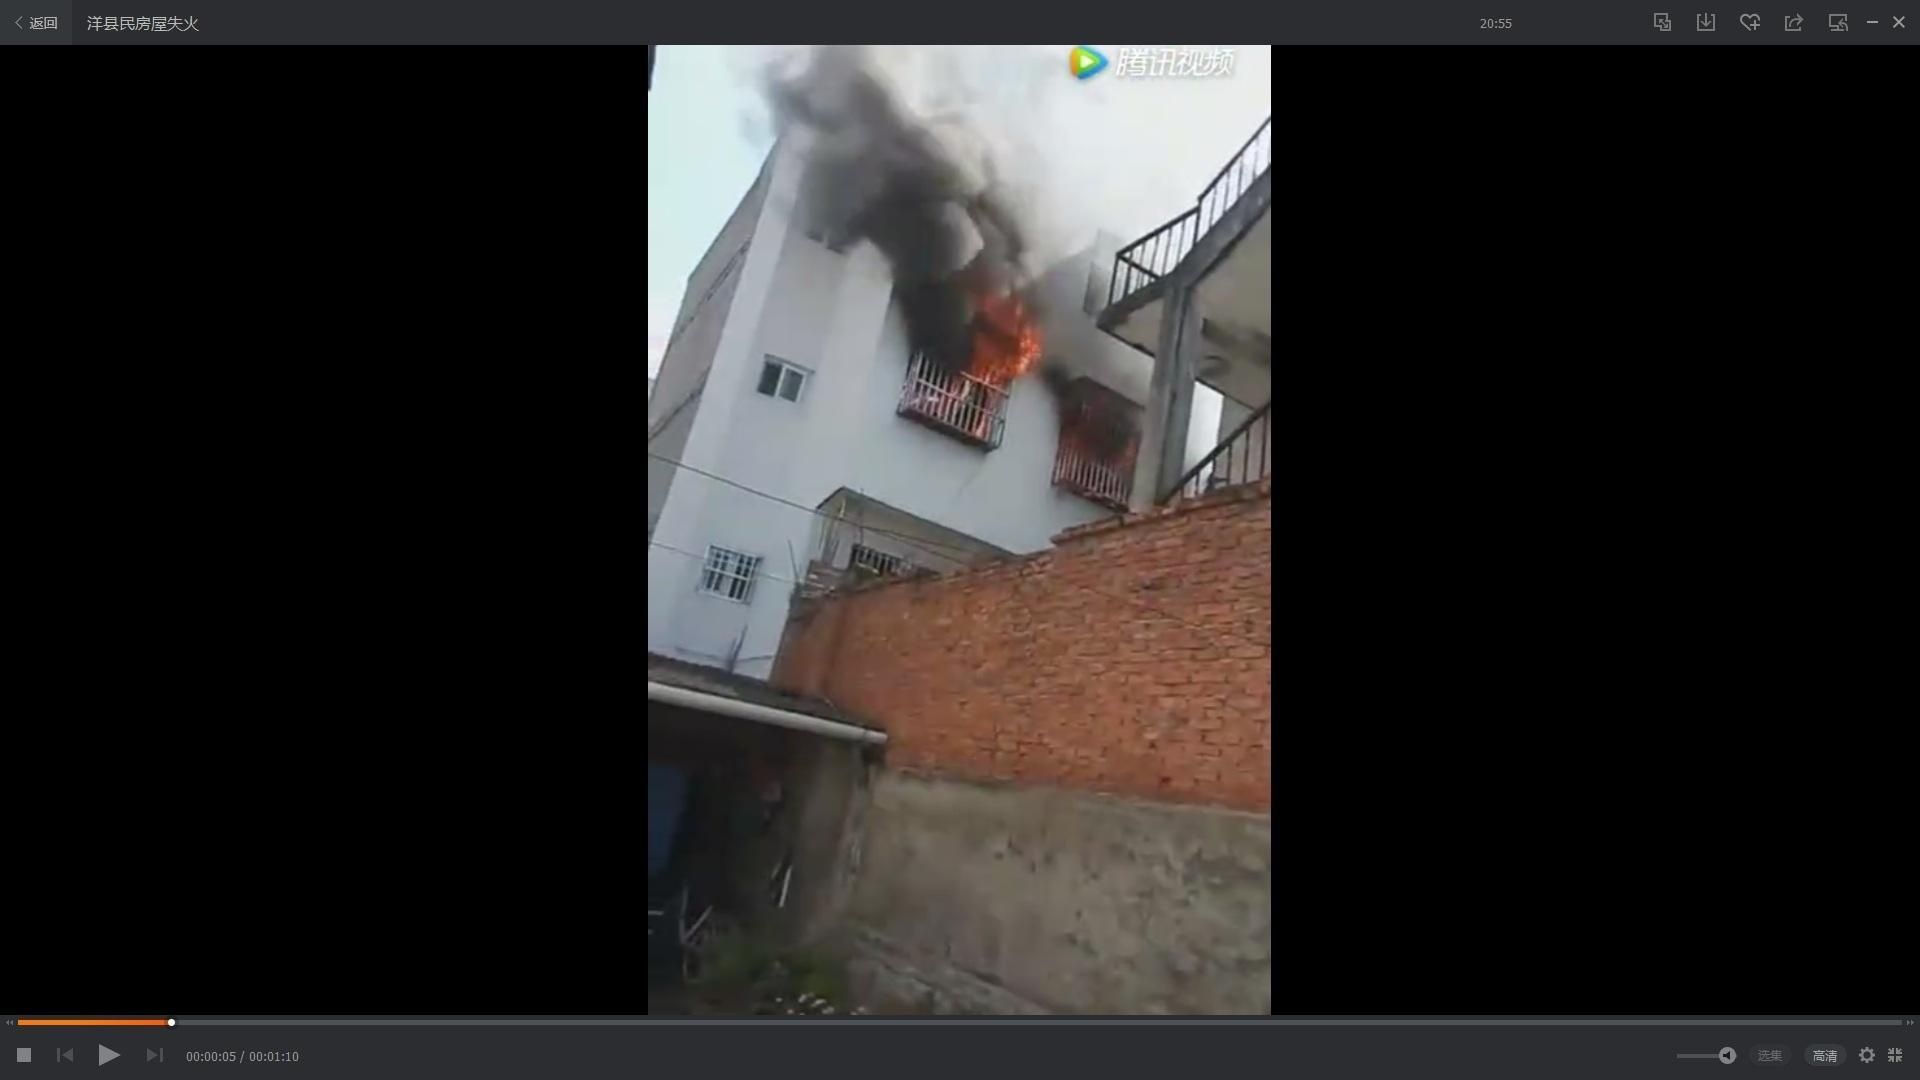fire: (923, 294, 1046, 392)
